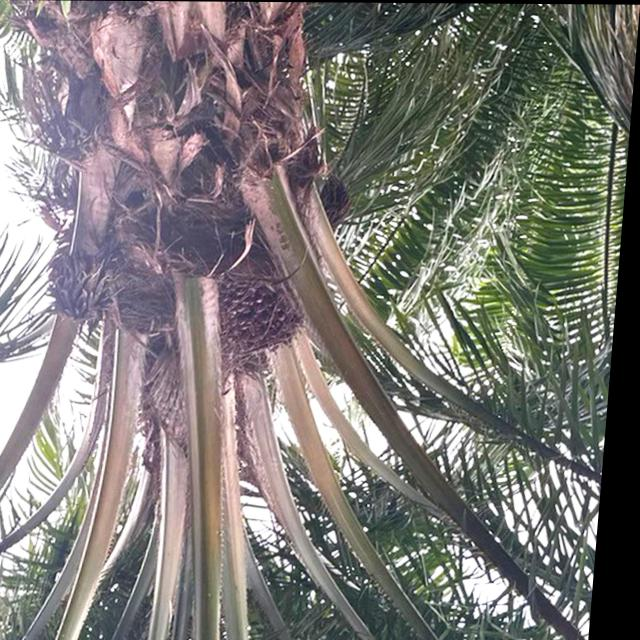ripe: (219, 273, 325, 371)
